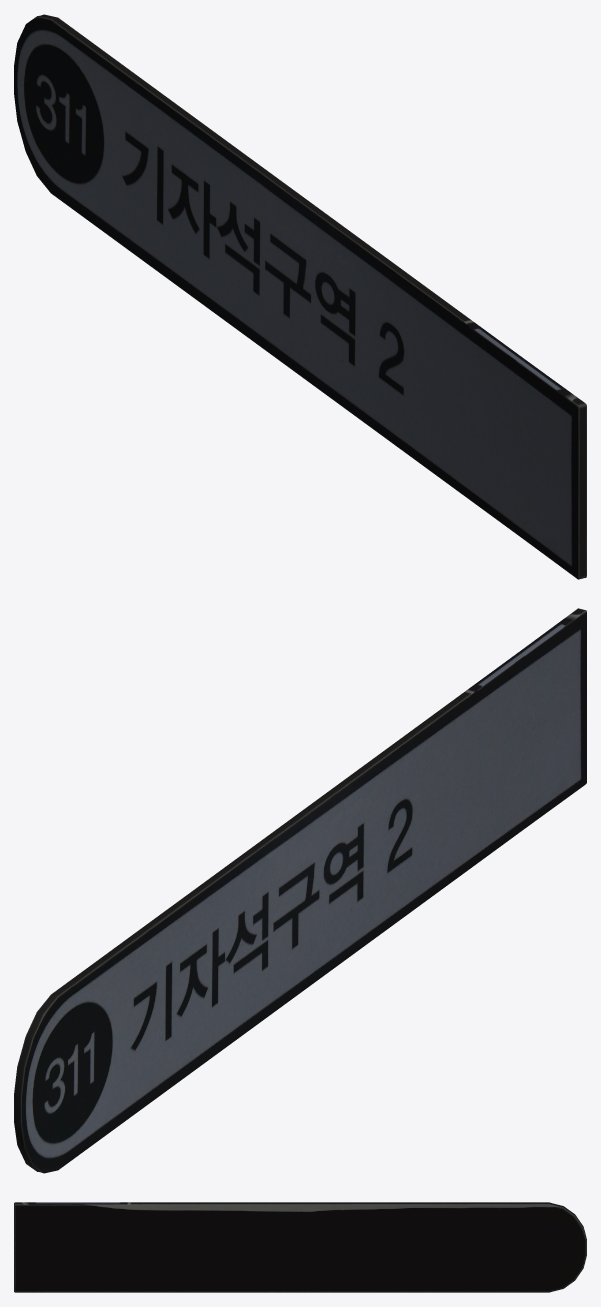
Rendered from SM_083_Editor_Seat_Announcement.fbx.
3 views of the same model, one above another, from view 1: azimuth 30°, elevation 25°; view 2: azimuth 150°, elevation 25°; view 3: azimuth 270°, elevation 25° (orthographic). The views are drawn at different scales.
Parts seen in each view (by area): view 1: SM_083_Editor_Seat_Announcement; view 2: SM_083_Editor_Seat_Announcement; view 3: SM_083_Editor_Seat_Announcement.
Part boxes in pixels (x1,y1,x2,y2): SM_083_Editor_Seat_Announcement: [14, 14, 586, 579]; SM_083_Editor_Seat_Announcement: [14, 608, 586, 1173]; SM_083_Editor_Seat_Announcement: [14, 1202, 586, 1292].
Size of the model in its own units: 0.9851 by 105 by 17.87.
1 material, 1 textured.
